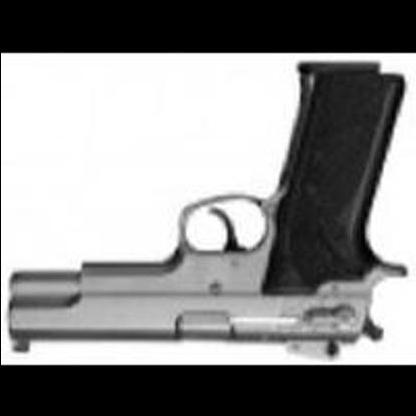weapon: (3, 58, 408, 359)
